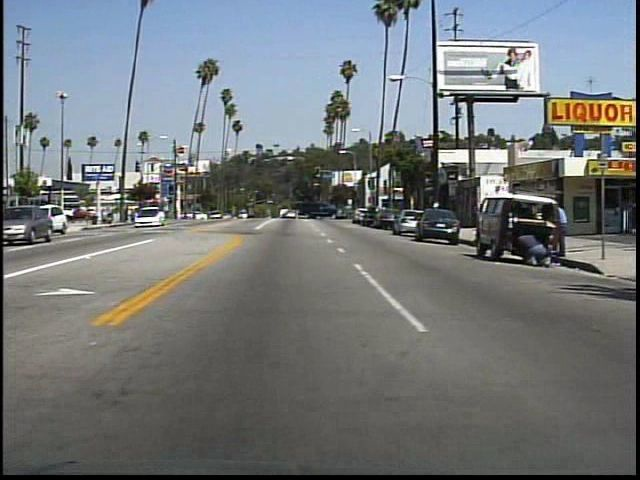person: (512, 227, 550, 270), (551, 201, 570, 257)
